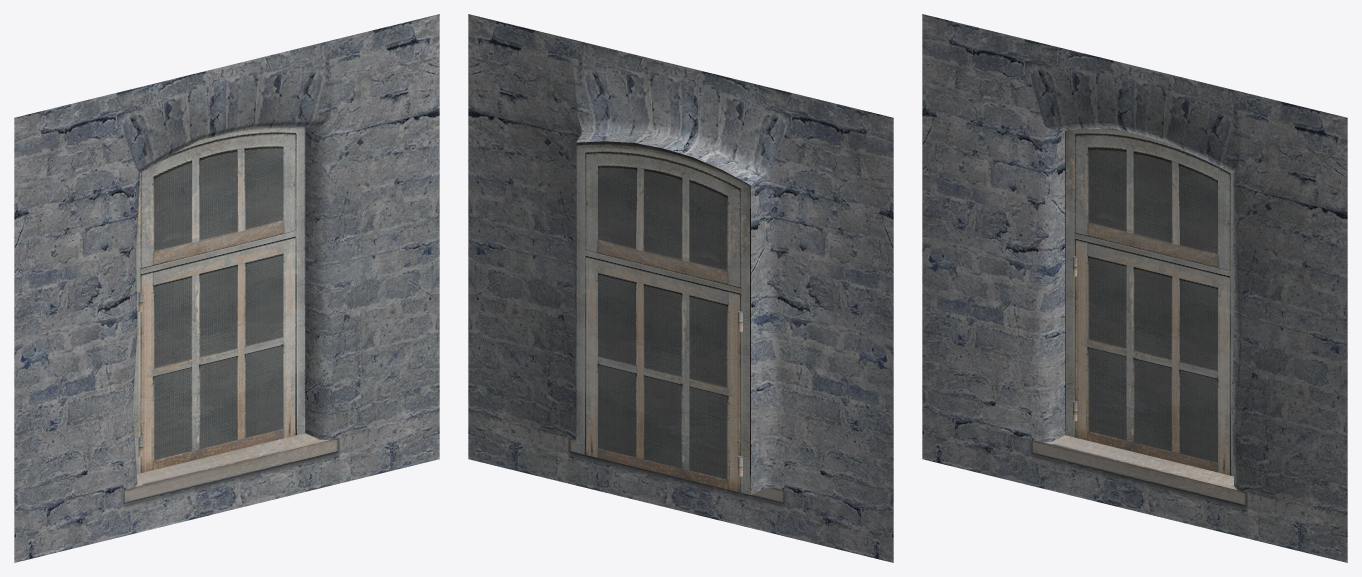
Rendered from factory_corridor_01_white.DAE.
3 renders of one model, left to right at view 1: azimuth 30°, elevation 25°; view 2: azimuth 150°, elevation 25°; view 3: azimuth 330°, elevation 25°, orthographic.
Visible parts, largest first — view 1: Object148, Object149; view 2: Object148, Object149; view 3: Object148, Object149.
Part boxes in pixels (bbox=[...]): Object148: bbox=[14, 14, 439, 516]; Object149: bbox=[14, 39, 439, 562]; Object148: bbox=[468, 14, 893, 516]; Object149: bbox=[468, 39, 893, 562]; Object148: bbox=[922, 14, 1347, 516]; Object149: bbox=[922, 37, 1347, 562].
Bounding box in the file's own units: 4 × 4 × 0.2395.
